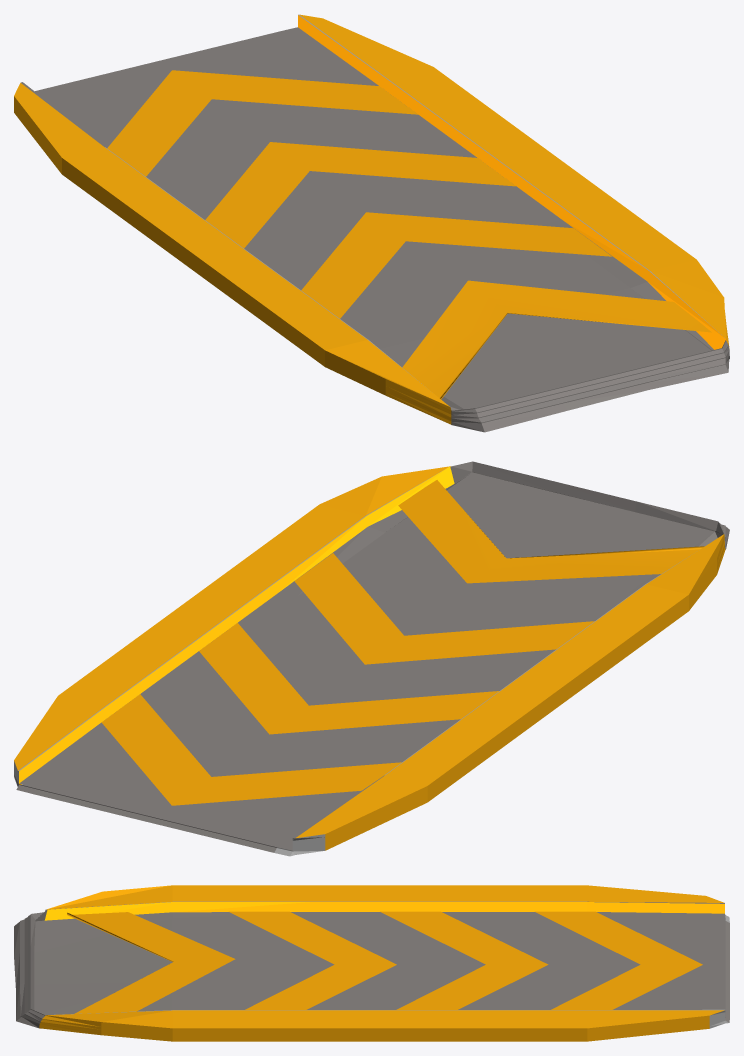
Rendered from pad3.fbx.
3 views of the same model, one above another, from view 1: azimuth 30°, elevation 25°; view 2: azimuth 150°, elevation 25°; view 3: azimuth 270°, elevation 25° (orthographic). The views are drawn at different scales.
Visible parts, largest first — view 1: Pad, pPlane1, pPlane5, pPlane6, pPlane7; view 2: Pad, pPlane6, pPlane5, pPlane7, pPlane1; view 3: Pad, pPlane1, pPlane7, pPlane5, pPlane6.
Part boxes in pixels (x1,y1,x2,y2): Pad: (14, 14, 729, 432); pPlane1: (402, 280, 711, 399); pPlane5: (301, 212, 611, 318); pPlane6: (205, 142, 515, 248); pPlane7: (107, 70, 417, 176); Pad: (14, 461, 729, 856); pPlane6: (199, 623, 498, 734); pPlane5: (294, 553, 594, 664); pPlane7: (101, 694, 401, 805); pPlane1: (398, 480, 704, 583); Pad: (14, 885, 729, 1041); pPlane1: (67, 912, 235, 1013); pPlane7: (535, 911, 702, 1009); pPlane5: (229, 911, 396, 1009); pPlane6: (380, 911, 548, 1009).
Bounding box in the file's own units: 2.32 × 0.1537 × 4.91.
